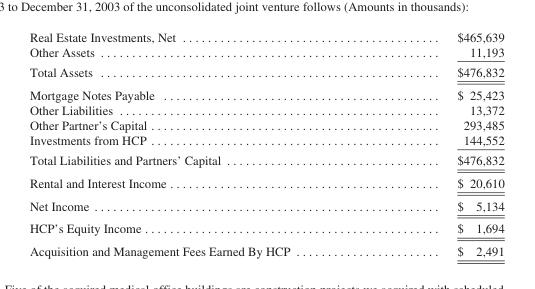table: (28, 29, 503, 257)
table column: (28, 29, 372, 257), (372, 29, 503, 257)
table row: (28, 171, 503, 194), (28, 216, 503, 239), (28, 149, 503, 171), (28, 194, 503, 216), (28, 61, 503, 82), (28, 82, 503, 101), (28, 43, 503, 61), (28, 239, 503, 257), (28, 132, 503, 149), (28, 101, 503, 117), (28, 117, 503, 132), (28, 29, 503, 43)
